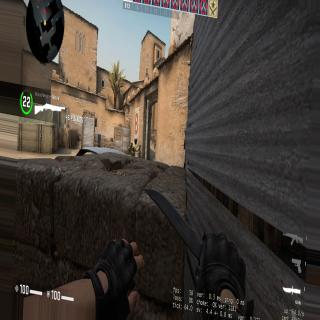CT-Body: (128, 137, 139, 156)
CT-Head: (134, 137, 138, 143)
